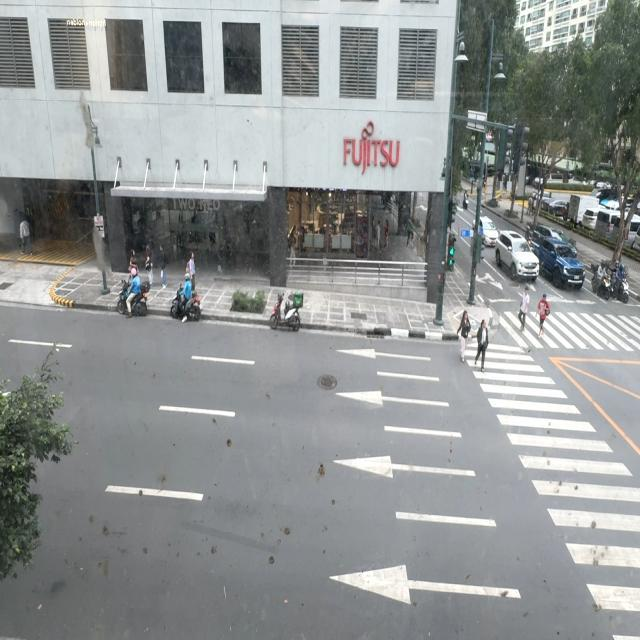jaywalking: (456, 310, 472, 362)
